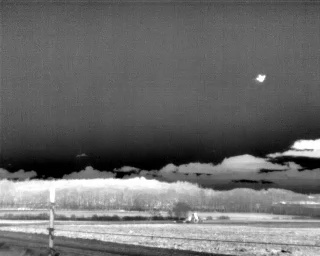DRONE: (253, 70, 270, 86)
